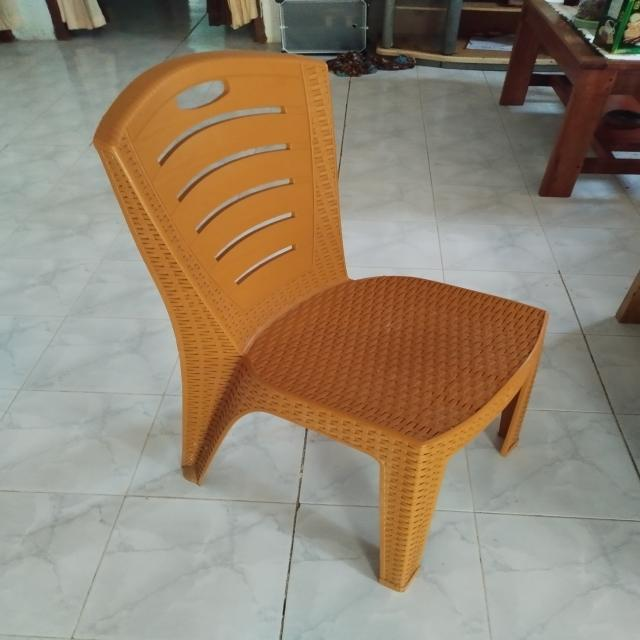chair: (29, 24, 598, 631)
